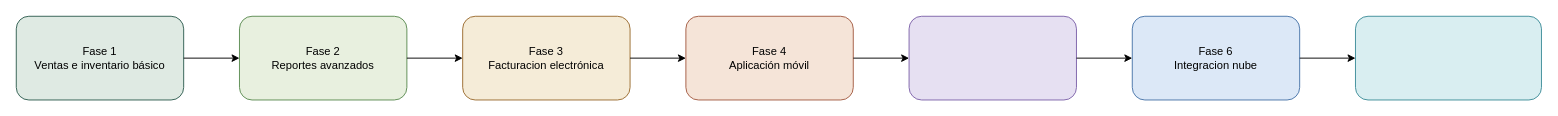
The diagram is 1558 pixels wide and 116 high, and some of its shapes have lost their labels. The shapes that lost their labels are listed below. From the top down, each one's box as (x1, y1, x2, y2) in pixels, then its label:
(908, 15, 1076, 100): Fase 5 Dashboard inteligente
(1355, 15, 1541, 100): Fase 7 Analitica y predicciones
